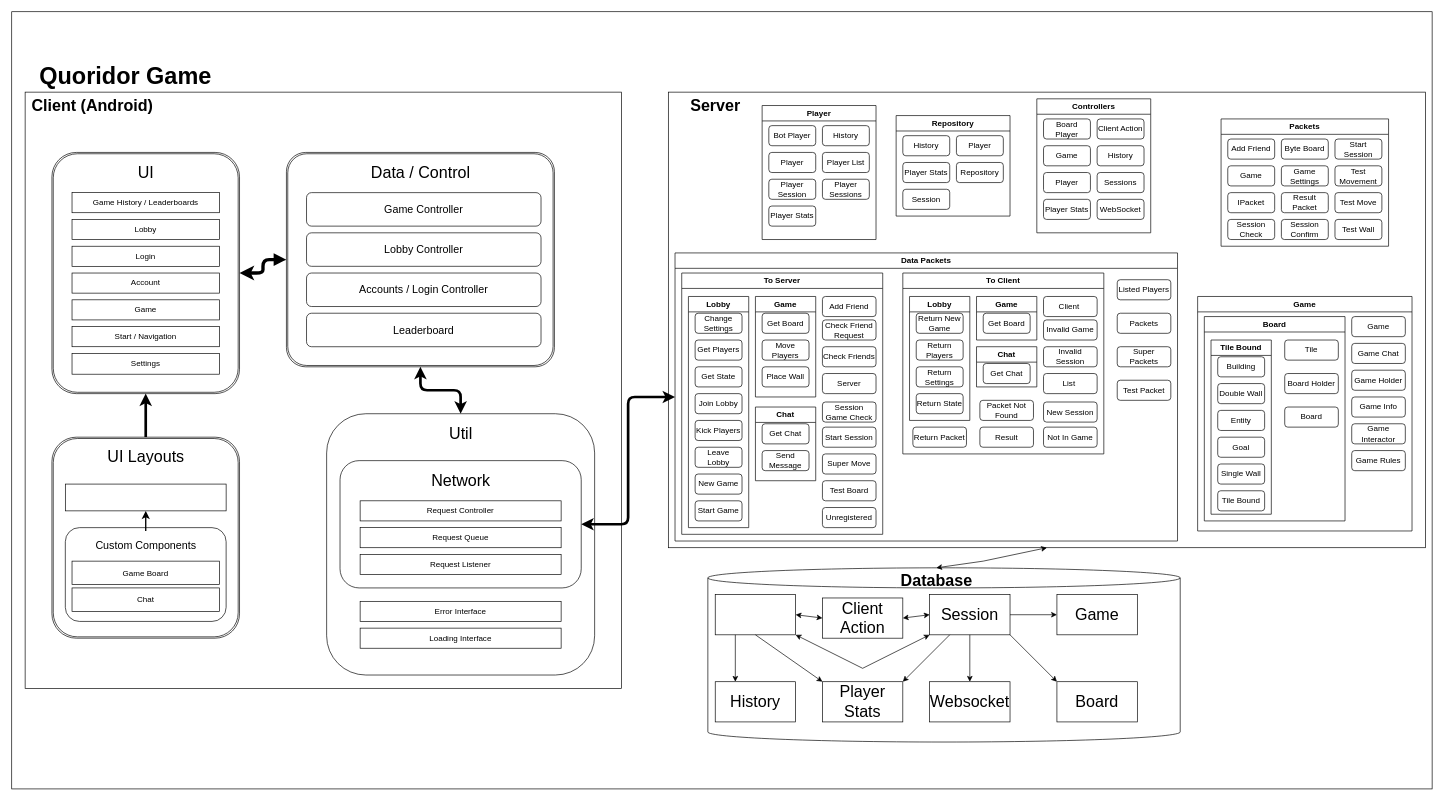
Some shapes in this 1444 by 801 pixel diagram are drawn without their labels. Each missing label, with the centre of its shape:
"Players" belongs at point (755, 614).
"XML Specified Layouts" belongs at point (145, 497).
